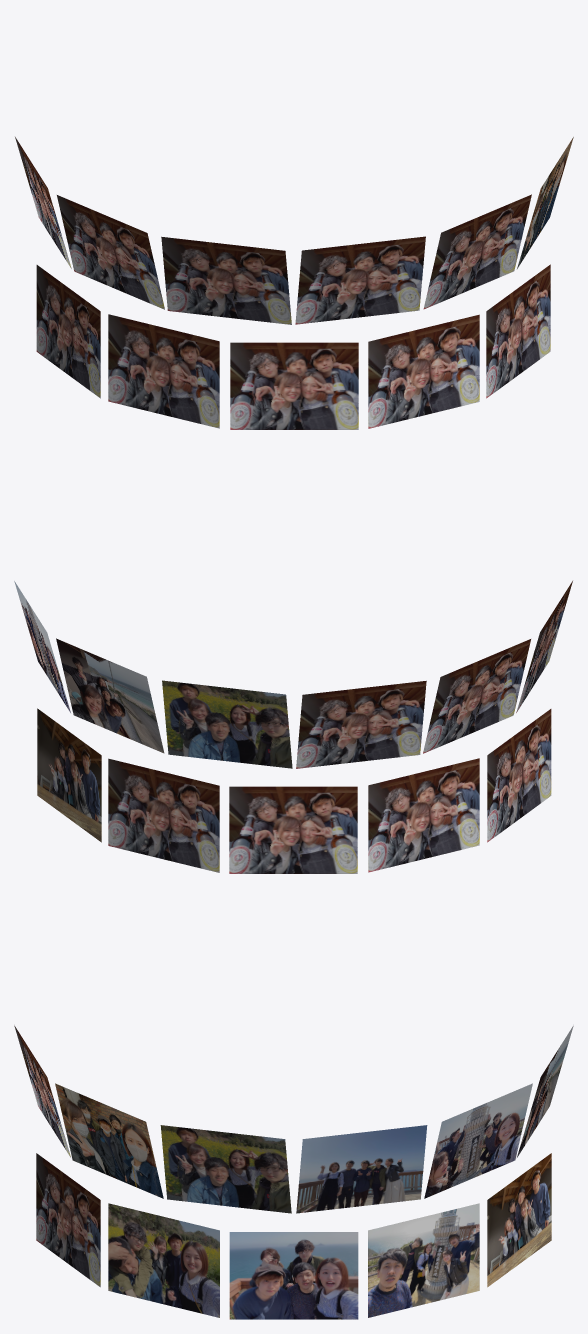
The model's file is chorus1.glb.
3 views of the same model, one above another, from view 1: azimuth 30°, elevation 25°; view 2: azimuth 150°, elevation 25°; view 3: azimuth 270°, elevation 25° (orthographic).
Parts seen in each view (by area): view 1: 平面15, 平面13, 平面17, 平面14, 平面16, 平面12, 平面18, 平面11, 平面19, 平面20, 平面10; view 2: 平面23, 平面01, 平面21, 平面24, 平面22, 平面02, 平面20, 平面03, 平面19, 平面18, 平面04; view 3: 平面07, 平面09, 平面05, 平面08, 平面06, 平面04, 平面10, 平面11, 平面03, 平面02, 平面12.
Part boxes in pixels (x1,y1,x2,y2): 平面15: (230,342,358,429); 平面13: (368,314,479,428); 平面17: (108,314,219,428); 平面14: (295,236,425,324); 平面16: (161,236,291,324); 平面12: (423,194,531,309); 平面18: (57,195,164,309); 平面11: (486,264,550,398); 平面19: (36,265,100,398); 平面20: (15,137,71,268); 平面10: (517,137,573,268); 平面23: (229,786,357,873); 平面01: (108,758,219,872); 平面21: (368,758,479,872); 平面24: (162,680,292,768); 平面22: (296,680,426,768); 平面02: (56,638,164,753); 平面20: (423,639,530,753); 平面03: (37,708,101,842); 平面19: (487,709,551,842); 平面18: (516,581,572,712); 平面04: (14,581,70,712); 平面07: (229,1232,358,1319); 平面09: (108,1203,219,1317); 平面05: (368,1203,479,1317); 平面08: (160,1125,291,1213); 平面06: (296,1125,427,1213); 平面04: (424,1083,532,1198); 平面10: (55,1083,163,1198); 平面11: (36,1153,100,1287); 平面03: (487,1153,551,1287); 平面02: (517,1025,573,1157); 平面12: (14,1025,70,1157).
Size of the model in its own units: 17.38 by 6.45 by 17.38.
24 materials, 24 textured.
